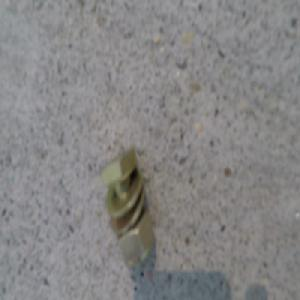BoltNutSet: (101, 149, 155, 263)
